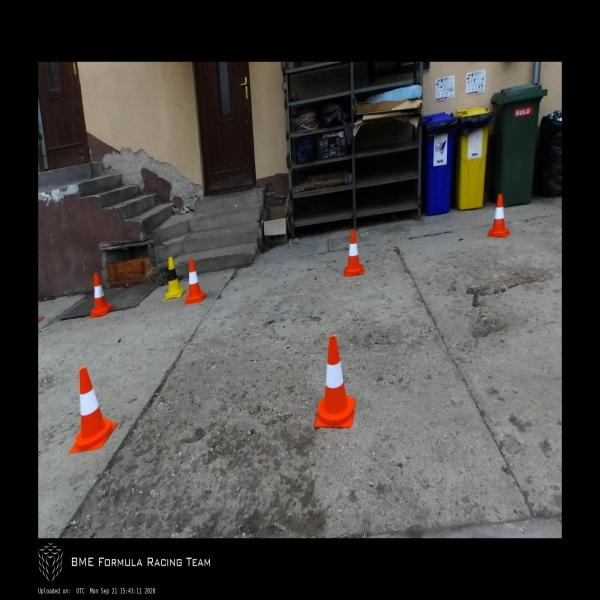orange_cone: (70, 368, 118, 452), (315, 336, 355, 428), (89, 272, 114, 318), (184, 259, 207, 304), (344, 229, 364, 277), (488, 194, 510, 237)
yellow_cone: (164, 256, 186, 300)
